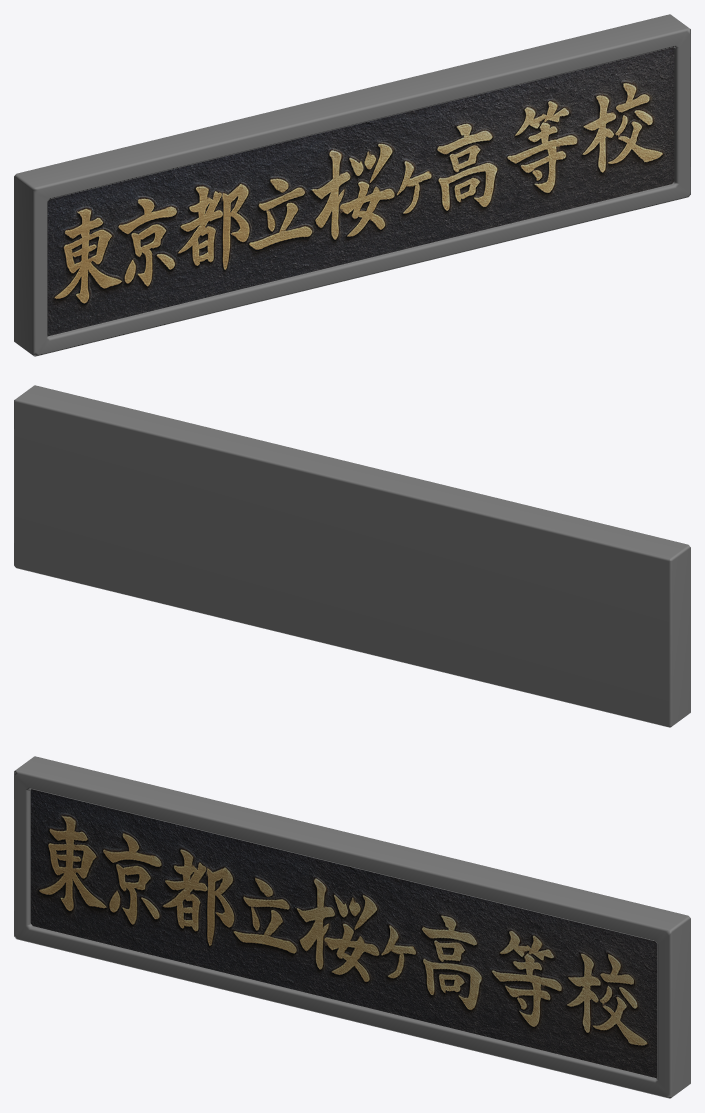
The model's file is SM_sign_schoolname.fbx.
The picture shows the model from 3 angles, top to bottom: view 1: azimuth 30°, elevation 25°; view 2: azimuth 150°, elevation 25°; view 3: azimuth 330°, elevation 25°; orthographic projection.
Parts seen in each view (by area): view 1: schoolnamesign; view 2: schoolnamesign; view 3: schoolnamesign.
Boxes of the visible parts, left/top/right/bottom form: schoolnamesign: left=14, top=14, right=690, bottom=356; schoolnamesign: left=14, top=385, right=690, bottom=727; schoolnamesign: left=14, top=756, right=690, bottom=1098.
Size of the model in its own units: 36.83 by 9.06 by 2.04.
Materials: 2 (1 with a texture image).
